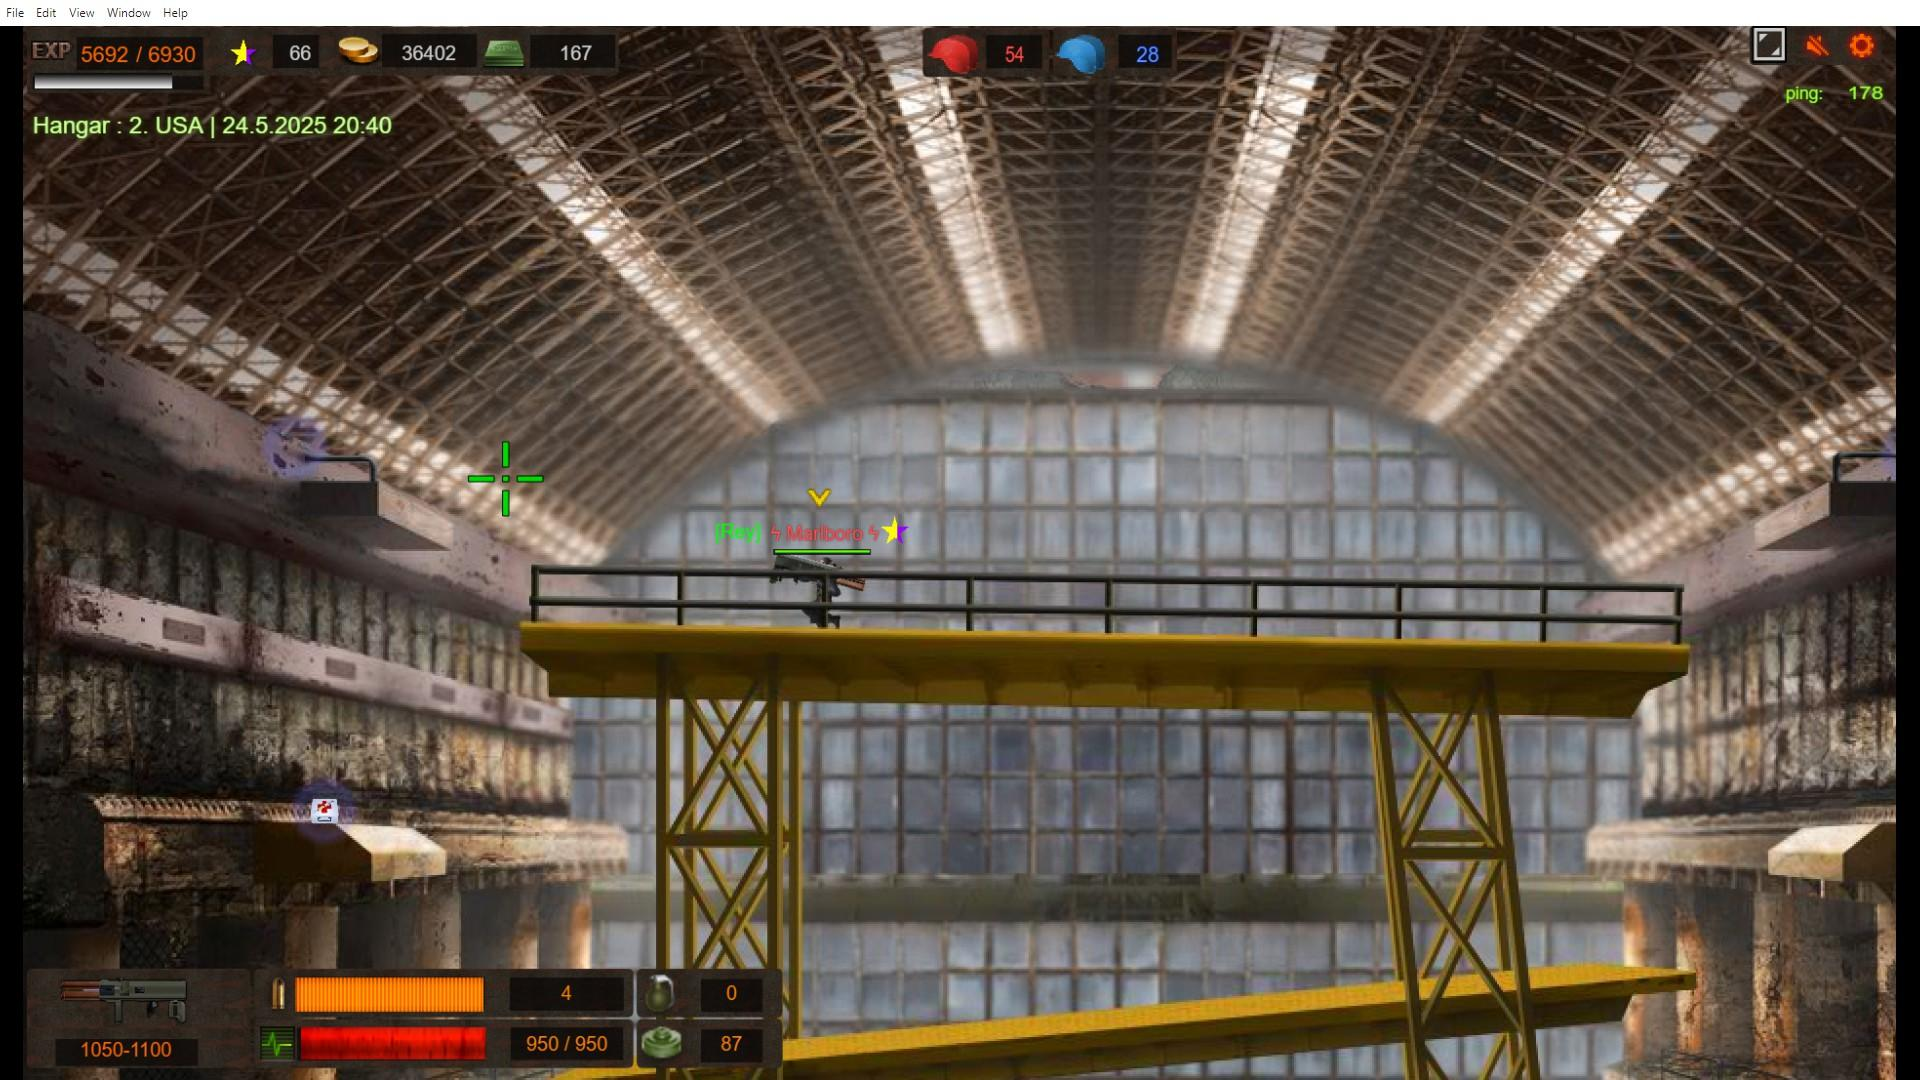enemy: (812, 555, 837, 630)
